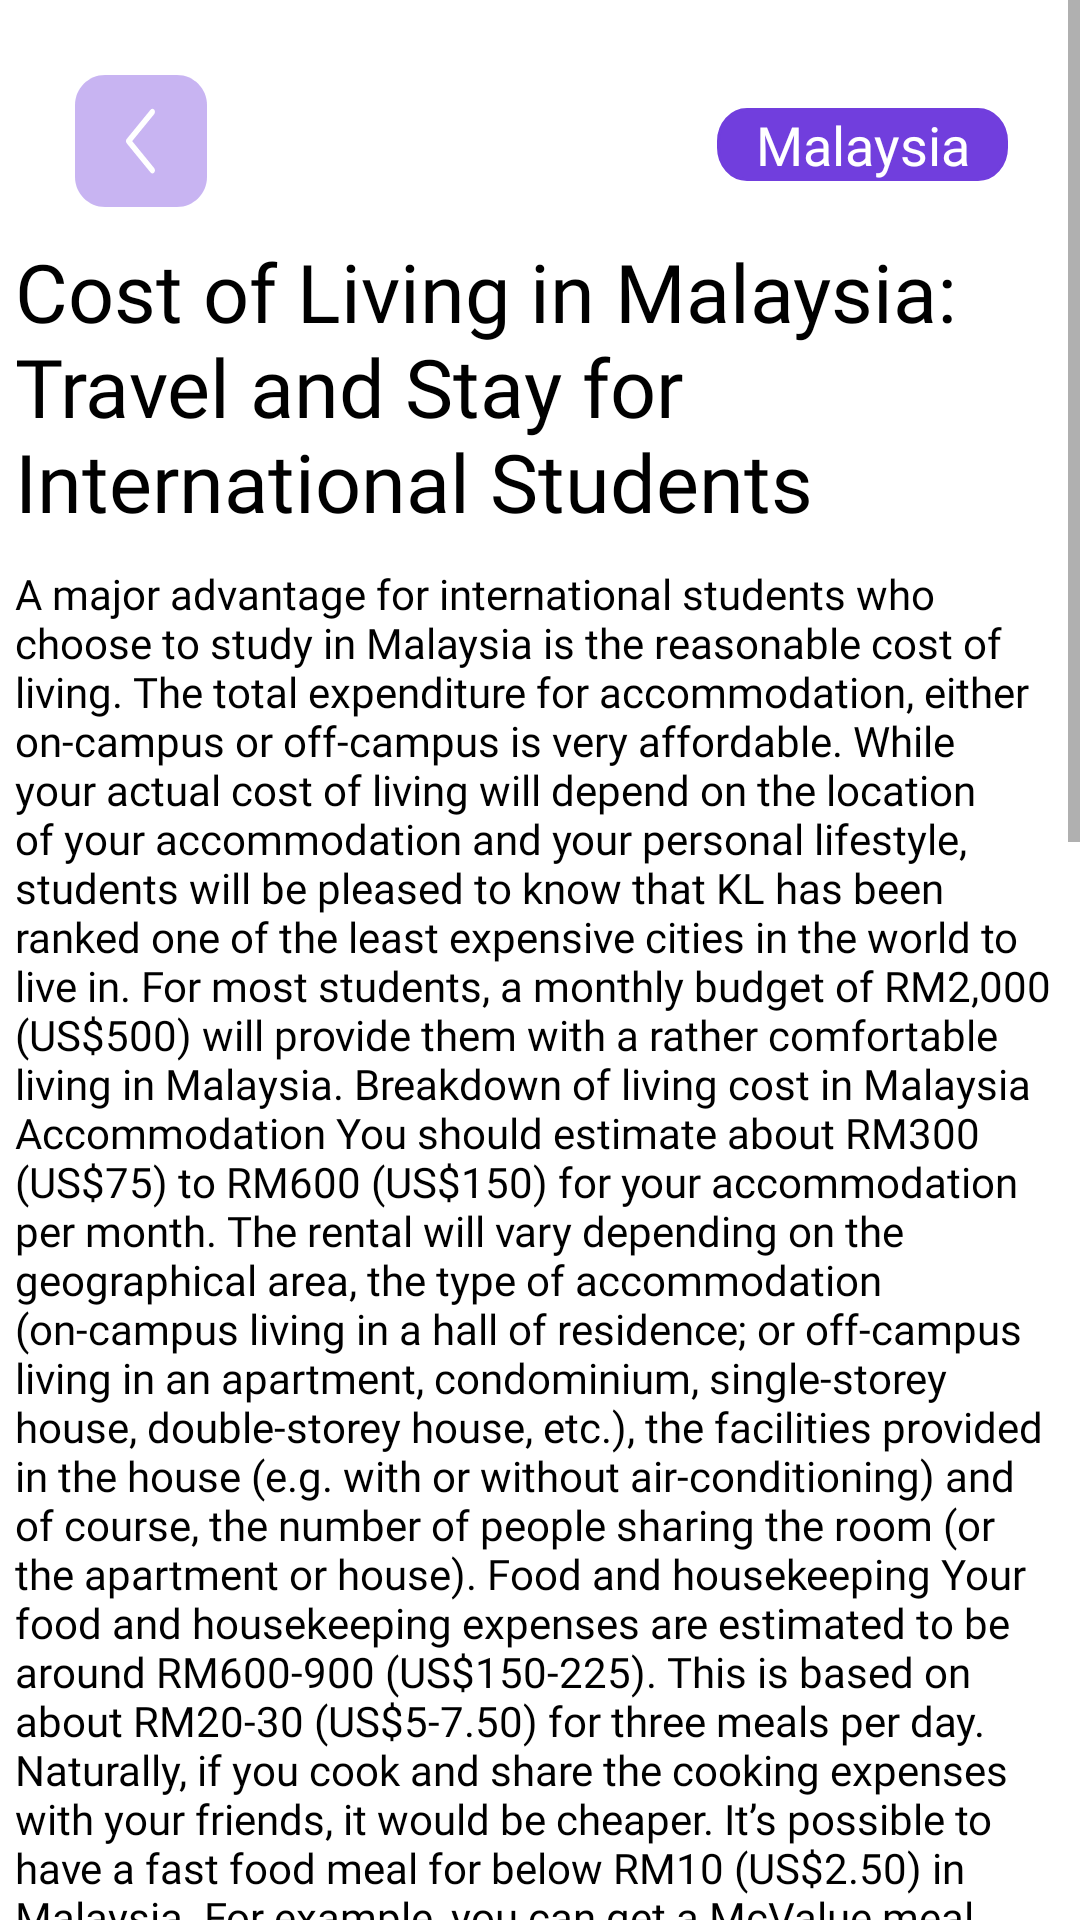

Point at icon controls on the screen. Image size 1080 × 1920, points as [x,y].
arrow left: [141,141]
